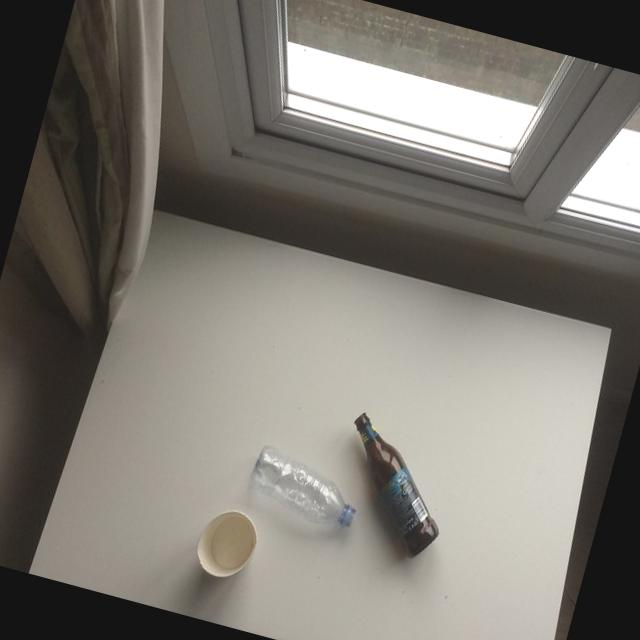Recycle: (322, 407, 468, 567), (238, 442, 366, 542)
Trash: (189, 502, 263, 586)
